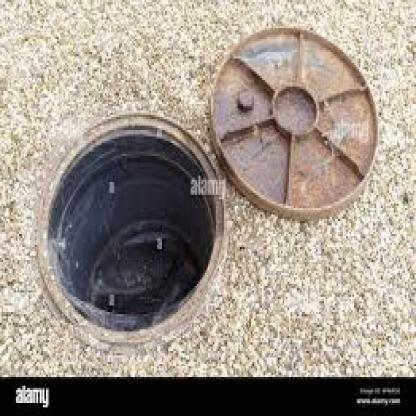open manhole-not overflowing-: (37, 37, 382, 334)
